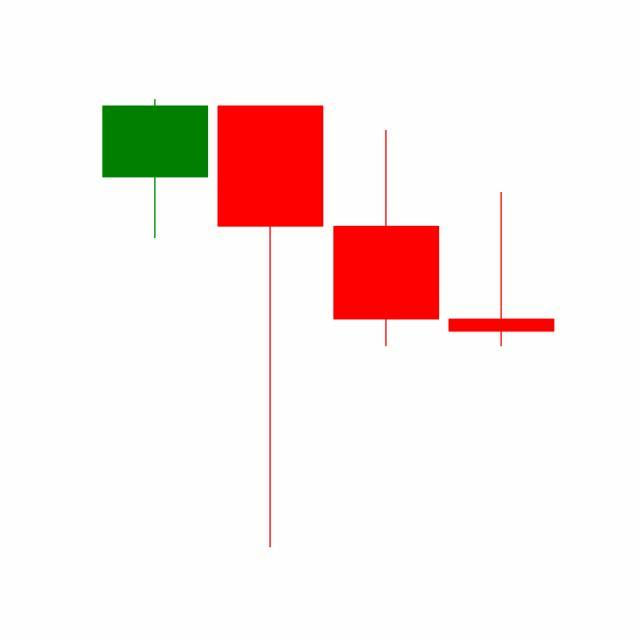Gravestone Doji: (444, 190, 560, 349)
